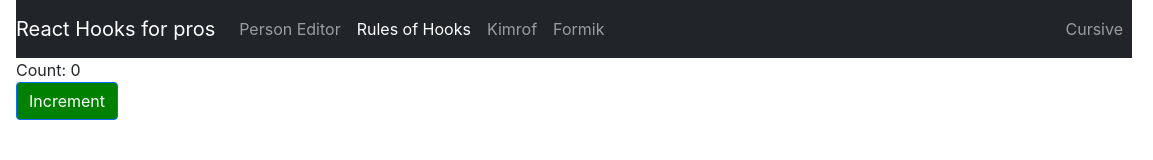
Test case: Theme › We can switch to cursive and back
This screenshot has width=1153, height=160.
Click the button "Cursive": (1095, 29) x1=1057 y1=8 x2=1133 y2=50
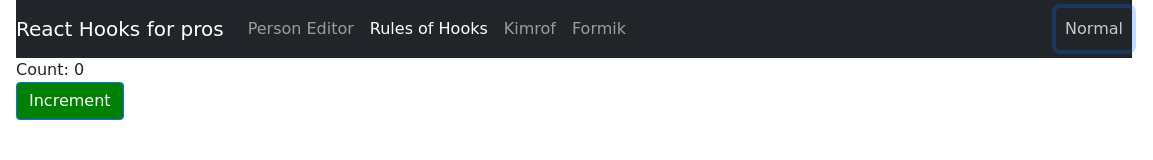
Click the button "Normal": (1094, 29) x1=1056 y1=8 x2=1132 y2=50
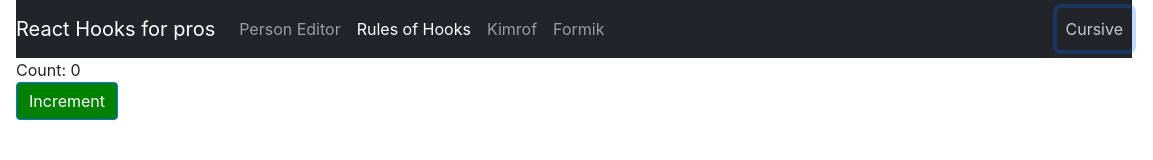
expect the button "Cursive" is shown: met, box x1=1056 y1=8 x2=1132 y2=50
